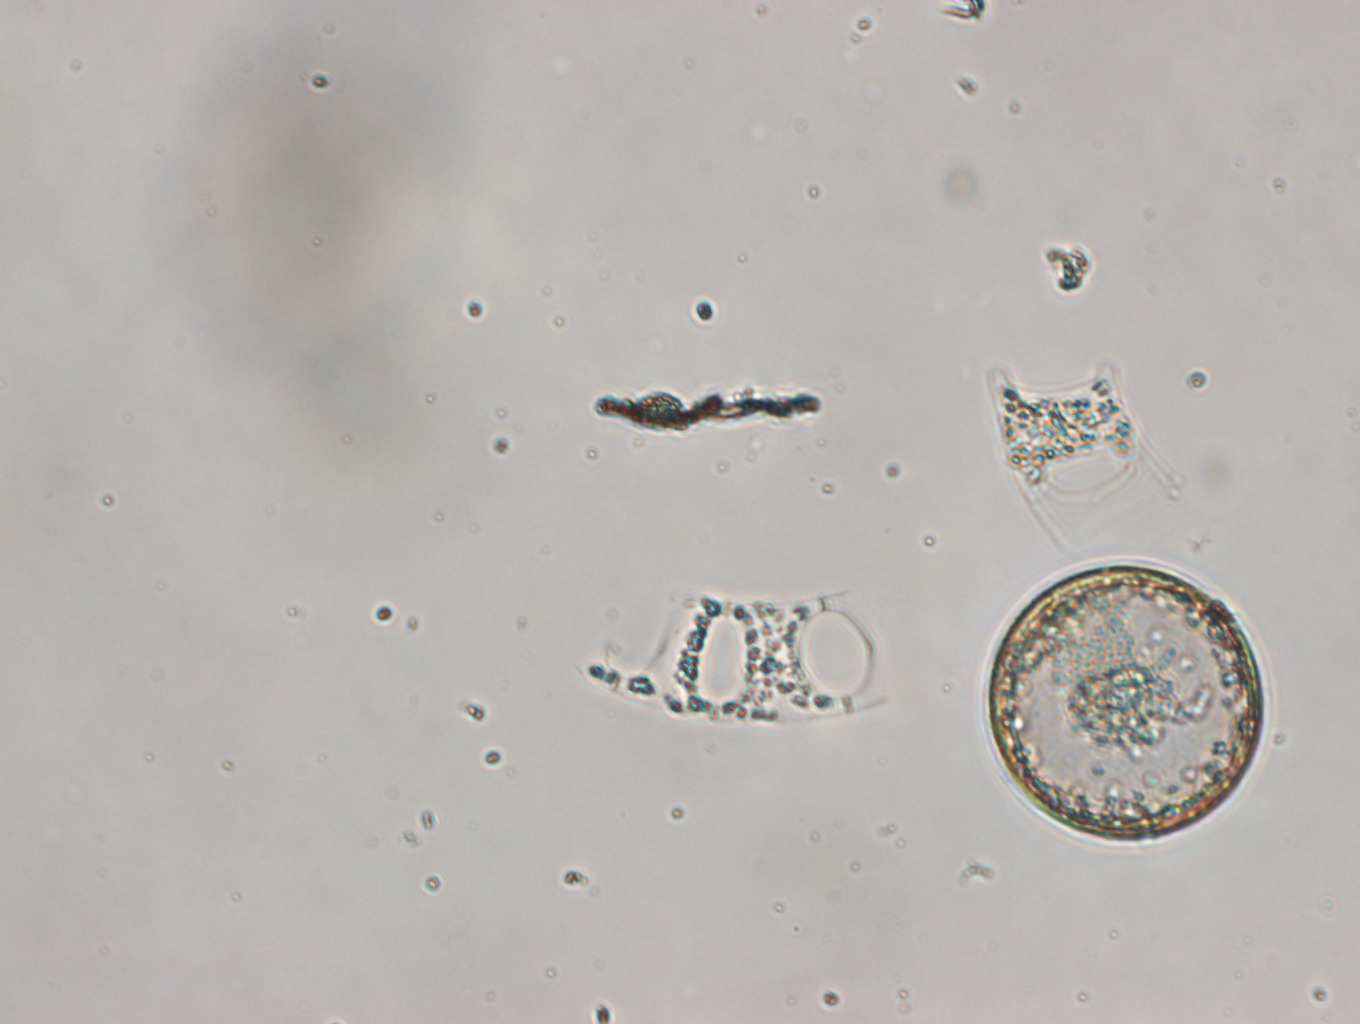coscinodiscus: (972, 559, 1285, 855)
eucampia: (574, 561, 914, 745), (975, 356, 1203, 547)
